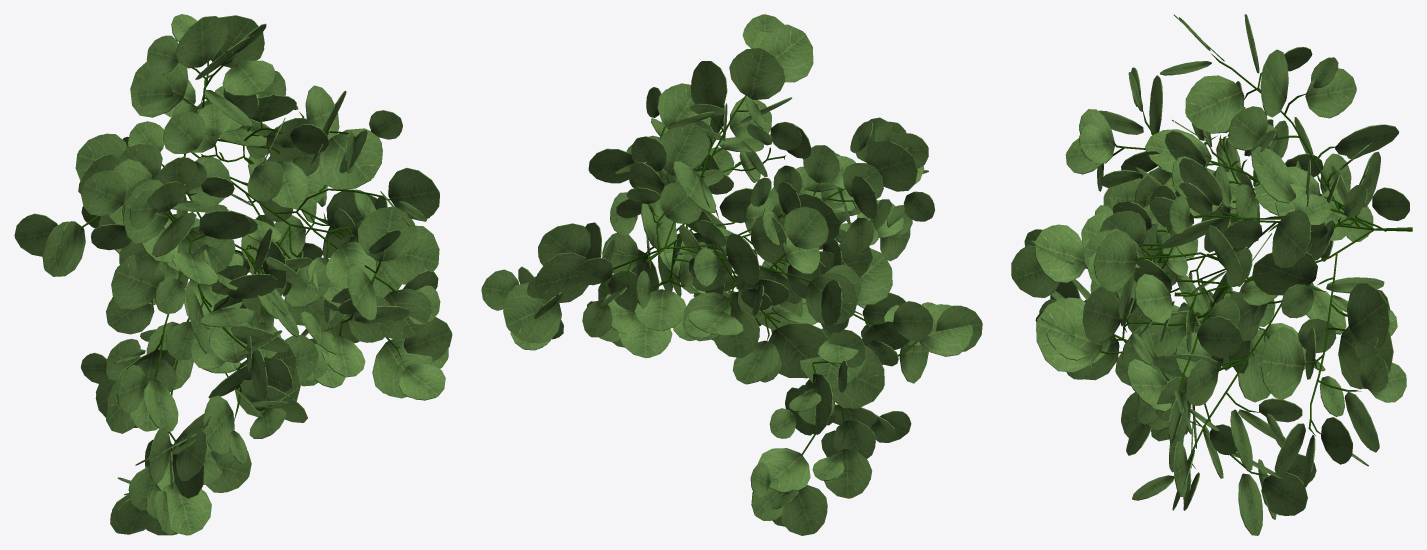
File: plant34.obj
3 renders of one model, left to right at view 1: azimuth 30°, elevation 25°; view 2: azimuth 150°, elevation 25°; view 3: azimuth 270°, elevation 25°, orthographic. The views are drawn at different scales.
Visible parts, largest first — view 1: leaves.002, tree.002; view 2: leaves.002, tree.002; view 3: leaves.002, tree.002.
Boxes of the visible parts, left/top/right/bottom form: leaves.002: left=14, top=14, right=452, bottom=535; tree.002: left=80, top=57, right=401, bottom=482; leaves.002: left=481, top=14, right=982, bottom=535; tree.002: left=557, top=95, right=917, bottom=455; leaves.002: left=1011, top=14, right=1409, bottom=535; tree.002: left=1085, top=53, right=1412, bottom=477.
Size of the model in its own units: 0.4828 by 0.5953 by 0.4004.
2 materials, 2 textured.
